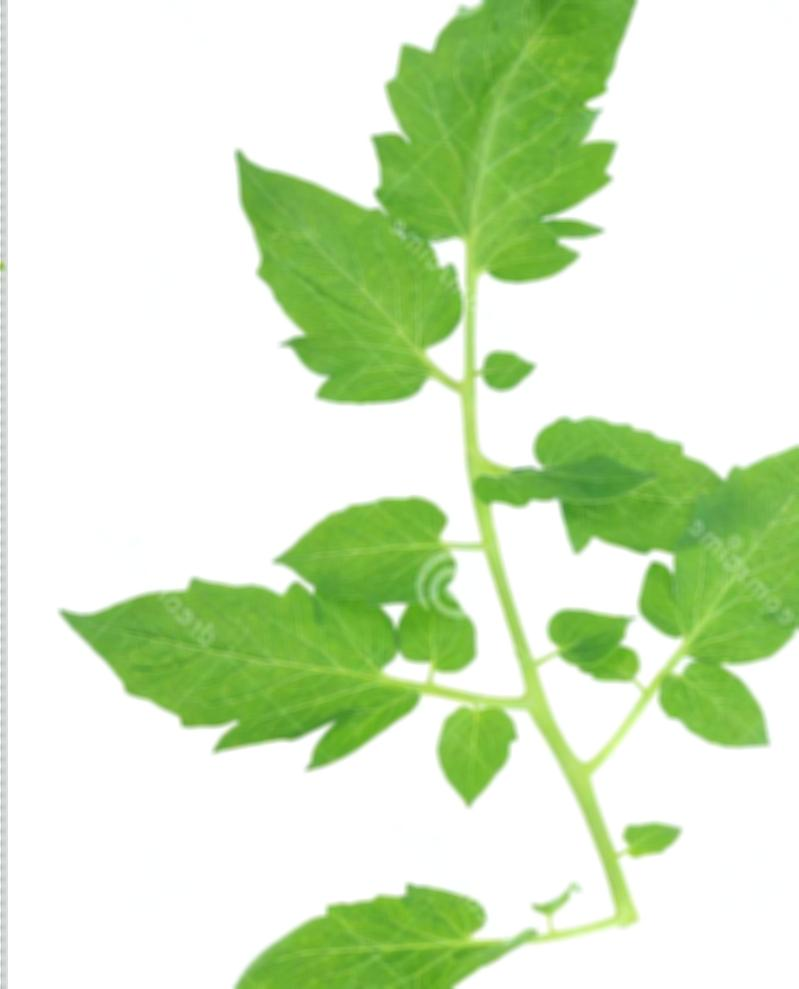Tomato leaf: (379, 0, 705, 295), (198, 138, 486, 453), (39, 583, 422, 774), (641, 399, 799, 683), (207, 850, 517, 989), (513, 376, 722, 570), (241, 483, 479, 634)
